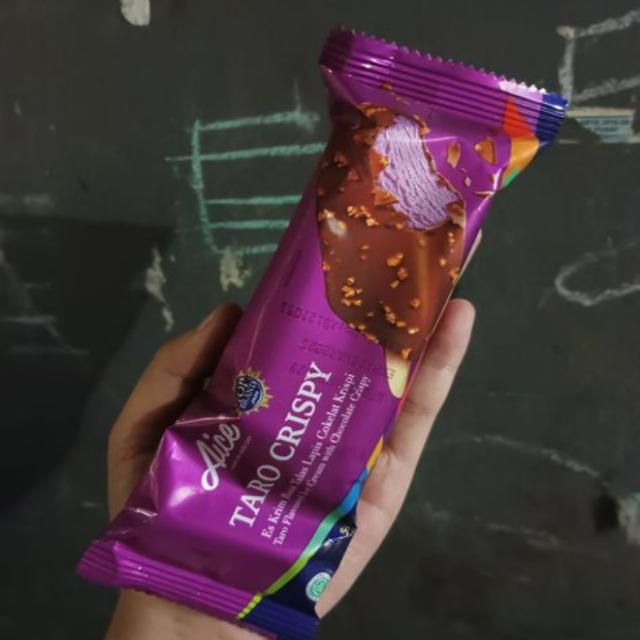KemasanPlastik: (73, 22, 570, 639)
